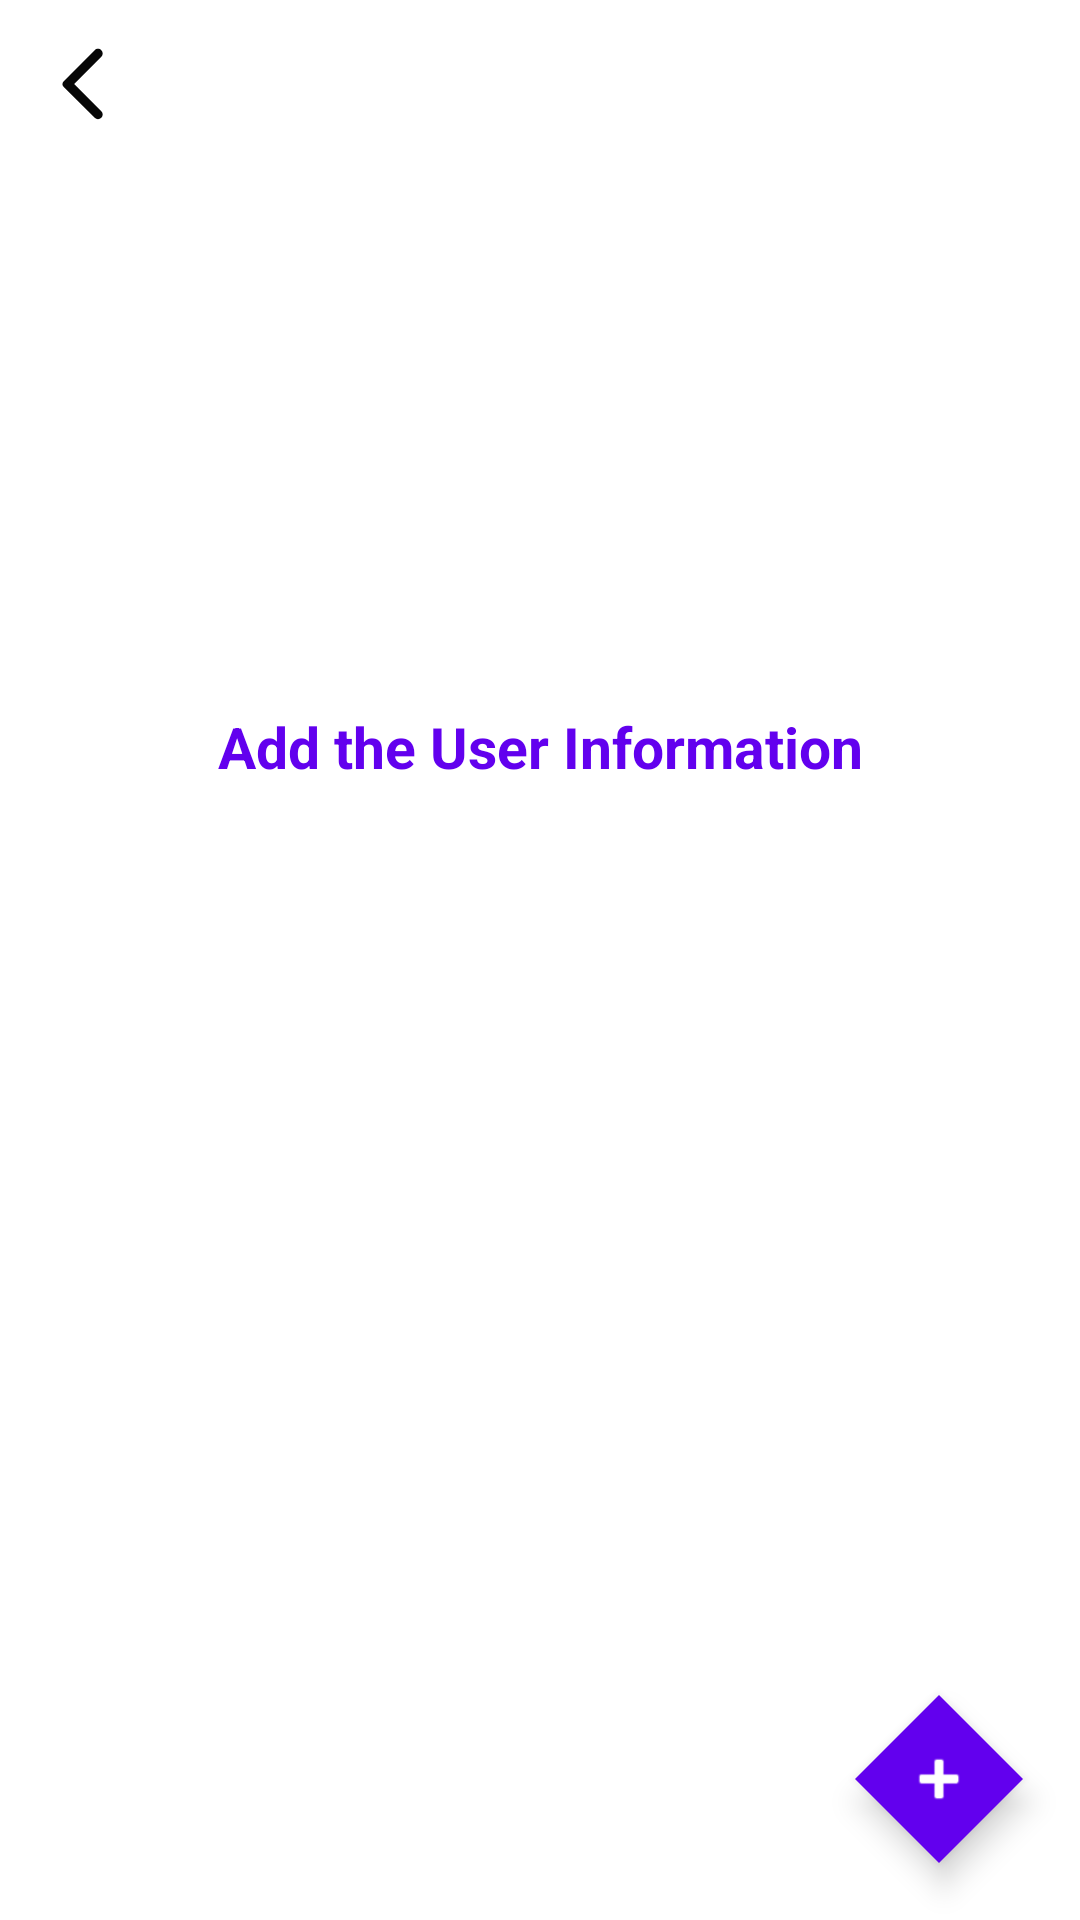

Screen size 1080*1920. Icon name, then its center in pixels as (x=x, y=y):
add: (x=939, y=1779)
arrow: (x=82, y=84)
